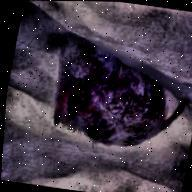boar: (23, 22, 192, 169)
